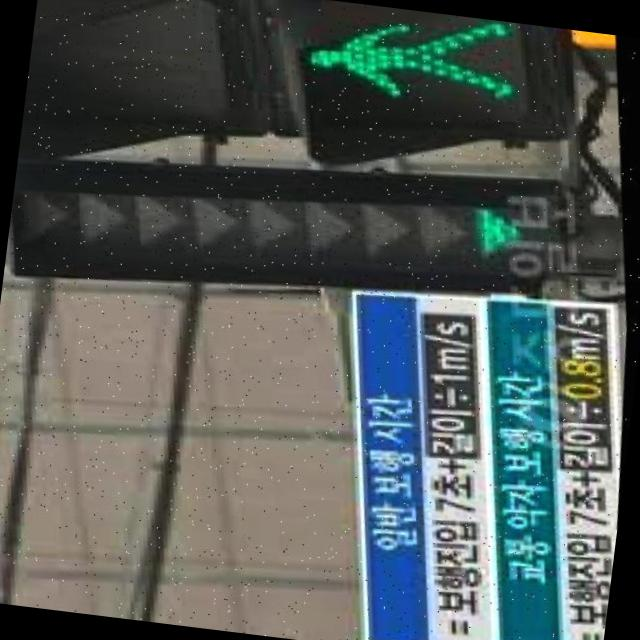green_light: (301, 0, 554, 152)
